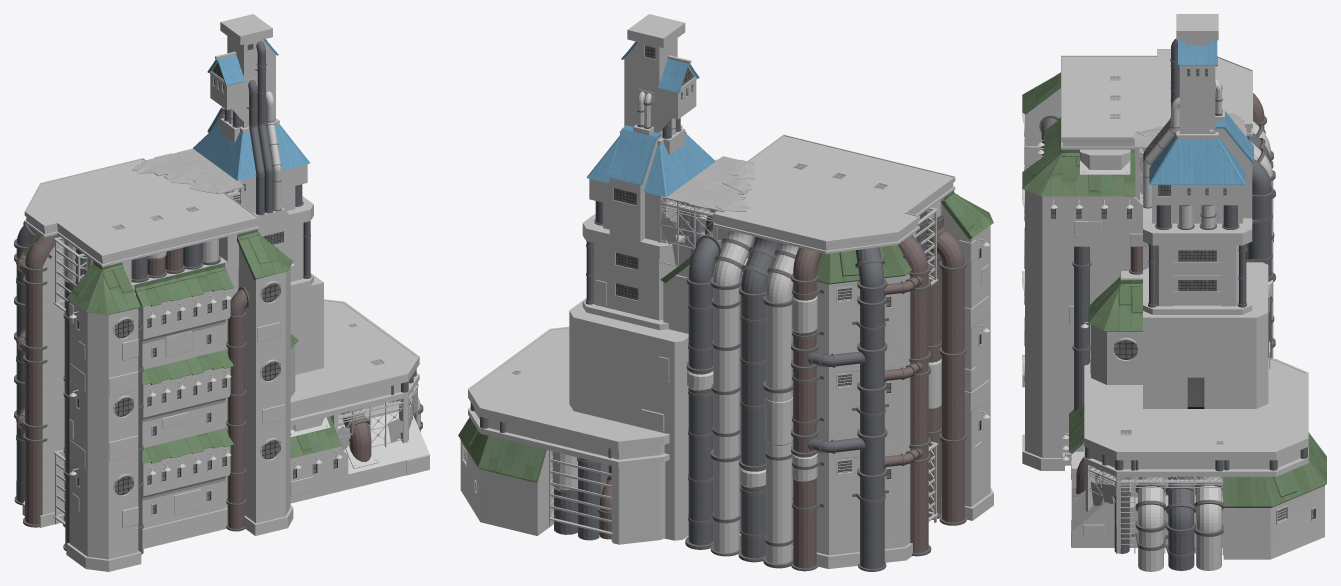
File: AreaE_Building_A.fbx
The picture shows the model from 3 angles, left to right: view 1: azimuth 30°, elevation 25°; view 2: azimuth 150°, elevation 25°; view 3: azimuth 270°, elevation 25°; orthographic projection. The views are drawn at different scales.
Parts seen in each view (by area): view 1: SM_ENV_AMVLLG02_AreaE_Building_A.mo; view 2: SM_ENV_AMVLLG02_AreaE_Building_A.mo; view 3: SM_ENV_AMVLLG02_AreaE_Building_A.mo.
Part boxes in pixels (left/top/right/bottom): SM_ENV_AMVLLG02_AreaE_Building_A.mo: left=14, top=14, right=429, bottom=571; SM_ENV_AMVLLG02_AreaE_Building_A.mo: left=458, top=14, right=993, bottom=571; SM_ENV_AMVLLG02_AreaE_Building_A.mo: left=1022, top=14, right=1326, bottom=571.
Bounding box in the file's own units: 4498 × 4821 × 2828.
